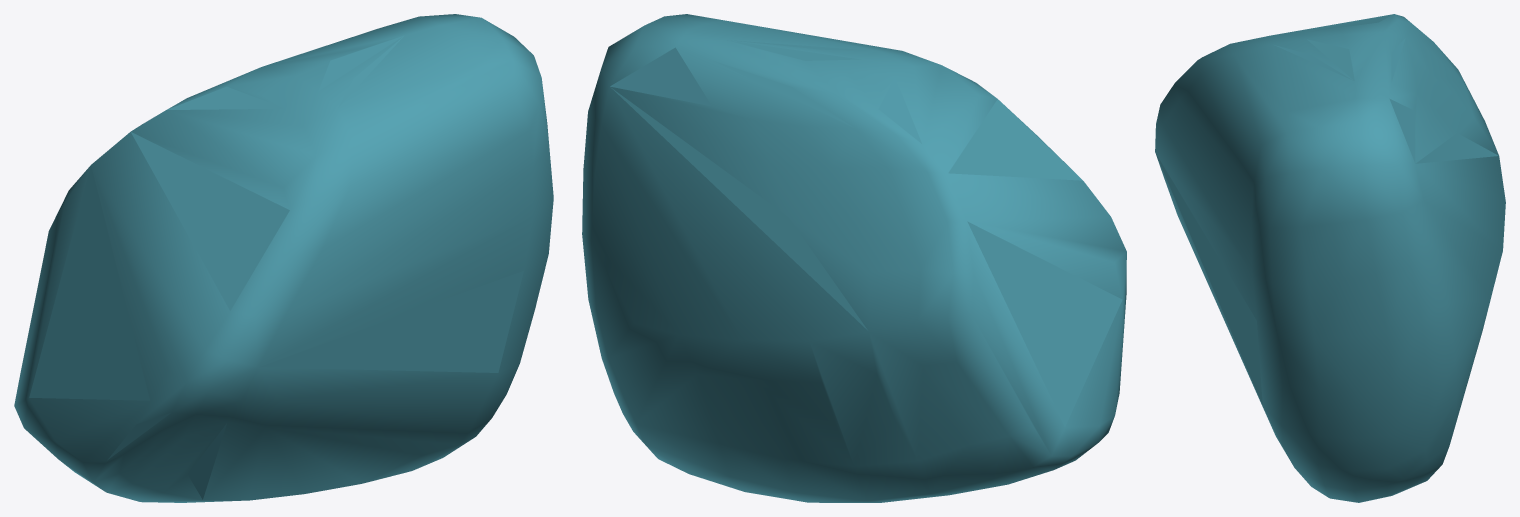
The model's file is COL_Alpha_Surface_015_convex_hull.dae.
The picture shows the model from 3 angles, left to right: view 1: azimuth 30°, elevation 25°; view 2: azimuth 150°, elevation 25°; view 3: azimuth 270°, elevation 25°; orthographic projection. The views are drawn at different scales.
Visible parts, largest first — view 1: COL_Alpha_Surface_015_convex_hull; view 2: COL_Alpha_Surface_015_convex_hull; view 3: COL_Alpha_Surface_015_convex_hull.
Part boxes in pixels (x1,y1,x2,y2): COL_Alpha_Surface_015_convex_hull: [14, 14, 553, 502]; COL_Alpha_Surface_015_convex_hull: [582, 14, 1126, 502]; COL_Alpha_Surface_015_convex_hull: [1155, 14, 1505, 502].
Bounding box in the file's own units: 11.6 × 7.51 × 9.84.
